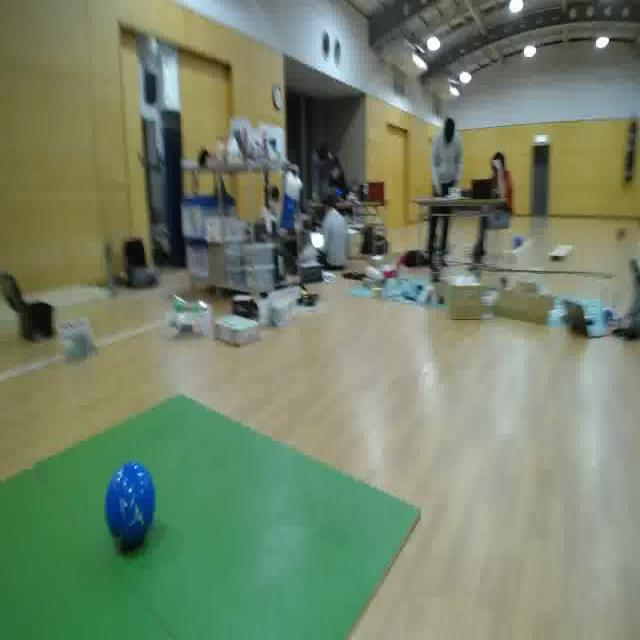blue_ball: (104, 452, 154, 558)
